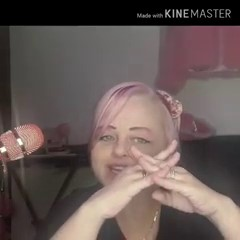W: (105, 131, 209, 224)
